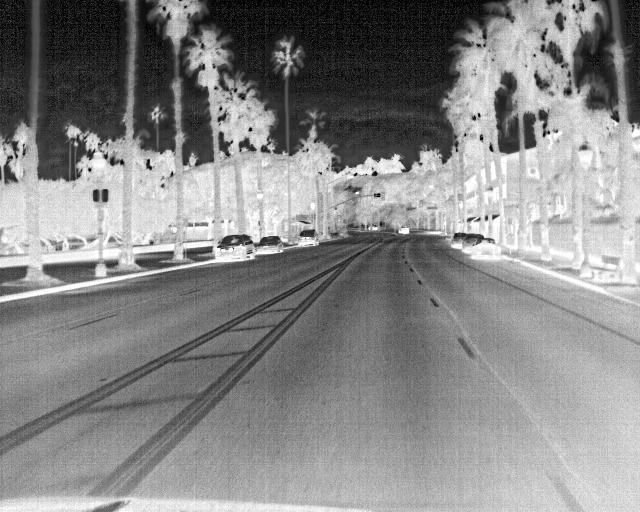car: (212, 234, 254, 262), (467, 238, 501, 260), (254, 236, 285, 255), (460, 230, 483, 251), (297, 226, 319, 246), (449, 232, 468, 250), (397, 224, 411, 236)
